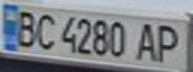0: (106, 18, 130, 60)
2: (72, 15, 93, 56)
4: (54, 14, 78, 54)
8: (90, 16, 112, 57)
A: (133, 19, 163, 63)
B: (9, 6, 42, 48)
C: (30, 10, 60, 52)
P: (151, 20, 187, 64)
